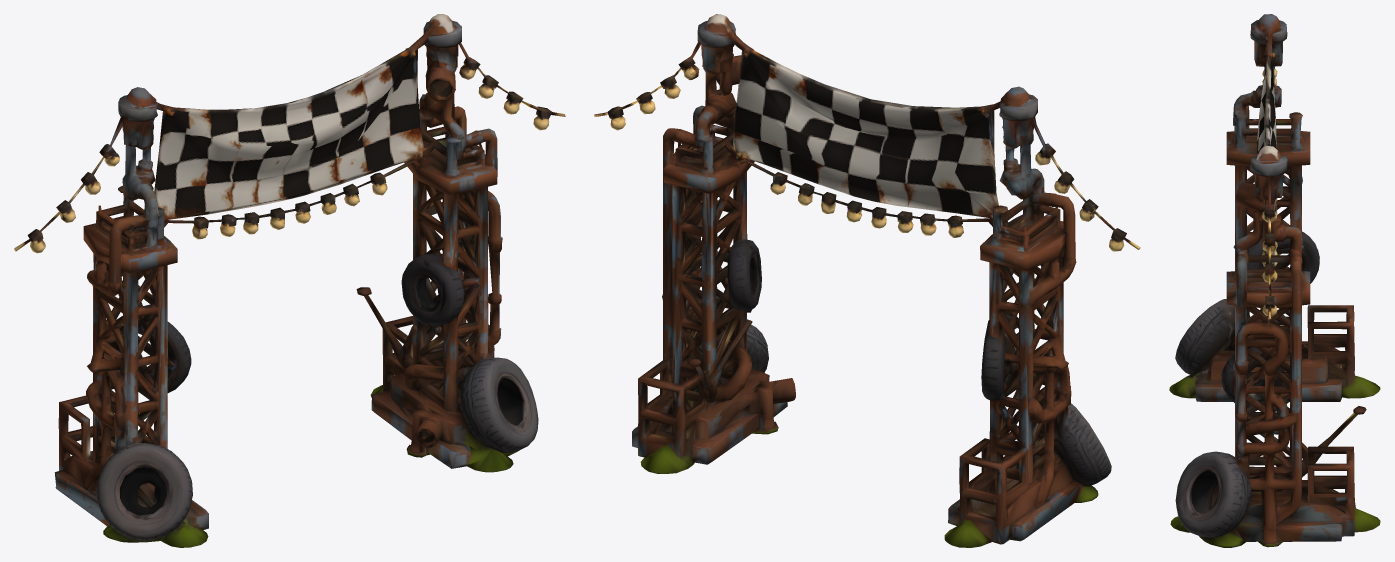
File: finish.fbx
The picture shows the model from 3 angles, left to right: view 1: azimuth 30°, elevation 25°; view 2: azimuth 150°, elevation 25°; view 3: azimuth 270°, elevation 25°; orthographic projection. The views are drawn at different scales.
Parts seen in each view (by area): view 1: node_0; view 2: node_0; view 3: node_0.
Part boxes in pixels (bbox=[...]): node_0: bbox=[14, 14, 565, 547]; node_0: bbox=[594, 14, 1140, 547]; node_0: bbox=[1169, 14, 1380, 547].
Size of the model in its own units: 112 by 81.58 by 41.58.
1 material, 1 textured.
